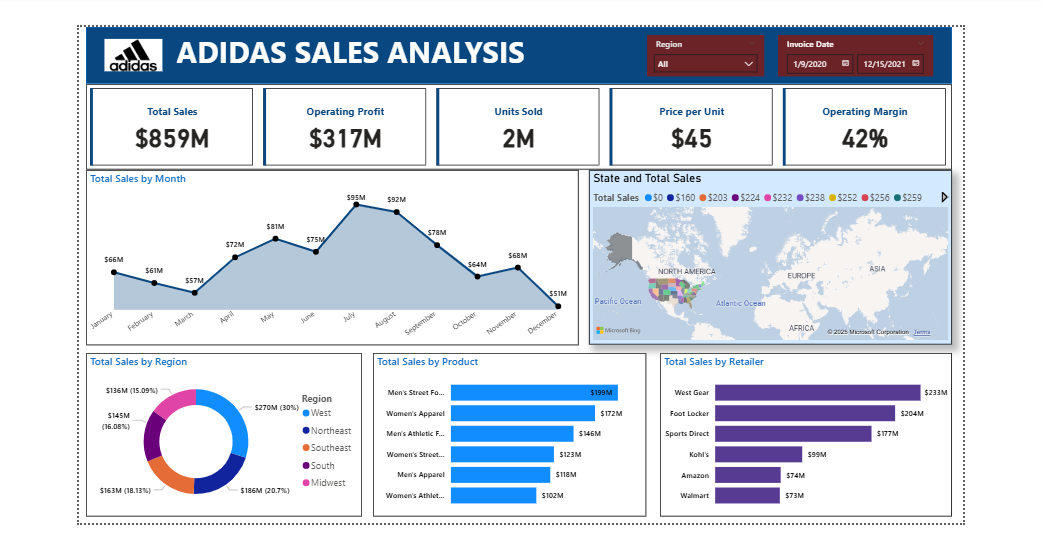

This screenshot's page, from the dashboard's own definition file:
{"tool":"powerbi","page":{"name":"Page 1","canvas":[1280,720],"ordinal":0},"visuals":[{"type":"shape","box":[10.1,0,1254.8,82.3],"z":0},{"type":"textbox","box":[136.7,1.5,524.6,77.9],"z":1000},{"type":"cardVisual","fields":{"Data":["Sum(Data Sales Adidas.Total Sales)","Sum(Data Sales Adidas.Operating Profit)","Sum(Data Sales Adidas.Units Sold)","Avg(Data Sales Adidas.Price per Unit)","Avg(Data Sales Adidas.Operating Margin)"]},"box":[10.1,82.3,1254.8,124.3],"z":2000},{"type":"areaChart","title":"Total Sales by Month","fields":{"Category":["Data Sales Adidas.Invoice Date.Variation.Date Hierarchy.Month"],"Y":["Sum(Data Sales Adidas.Total Sales)"]},"box":[10.1,206.6,713.9,253.6],"z":3000},{"type":"filledMap","fields":{"Category":["Data Sales Adidas.State"],"Series":["Data Sales Adidas.Total Sales"]},"box":[739.1,207.2,526,252.7],"z":4000},{"type":"donutChart","title":"Total Sales by Region","fields":{"Category":["Data Sales Adidas.Region"],"Y":["Sum(Data Sales Adidas.Total Sales)"]},"box":[10.1,472,399.8,236.9],"z":5000},{"type":"barChart","title":"Total Sales by Product","fields":{"Category":["Data Sales Adidas.Product"],"Y":["Sum(Data Sales Adidas.Total Sales)"]},"box":[426.7,472,396.4,236.9],"z":6000},{"type":"barChart","title":"Total Sales by Retailer","fields":{"Y":["Sum(Data Sales Adidas.Total Sales)"],"Category":["Data Sales Adidas.Retailer"]},"box":[841.6,472,423.3,236.9],"z":7000},{"type":"slicer","fields":{"Values":["Data Sales Adidas.Region"]},"box":[823.1,11.8,169.7,60.5],"z":8000},{"type":"slicer","fields":{"Values":["Data Sales Adidas.Invoice Date"]},"box":[1012.4,11.8,224.8,60.2],"z":9000},{"type":"image","box":[32.3,7.3,94,67.6],"z":10000}]}

Visuals, with their boxes on the page's 1280x720 design canvas (x1, y1, x2, y2). These are canvas units, not pixel positions in the 1042x548 screenshot, which may show the page scaled, cropped or inside an application window:
shape: <bbox>10, 0, 1265, 82</bbox>
textbox: <bbox>137, 2, 661, 79</bbox>
cardVisual - Sum(Data Sales Adidas.Total Sales) x Sum(Data Sales Adidas.Operating Profit): <bbox>10, 82, 1265, 207</bbox>
"Total Sales by Month" areaChart: <bbox>10, 207, 724, 460</bbox>
filledMap - Data Sales Adidas.State x Data Sales Adidas.Total Sales: <bbox>739, 207, 1265, 460</bbox>
"Total Sales by Region" donutChart: <bbox>10, 472, 410, 709</bbox>
"Total Sales by Product" barChart: <bbox>427, 472, 823, 709</bbox>
"Total Sales by Retailer" barChart: <bbox>842, 472, 1265, 709</bbox>
slicer - Data Sales Adidas.Region: <bbox>823, 12, 993, 72</bbox>
slicer - Data Sales Adidas.Invoice Date: <bbox>1012, 12, 1237, 72</bbox>
image: <bbox>32, 7, 126, 75</bbox>
